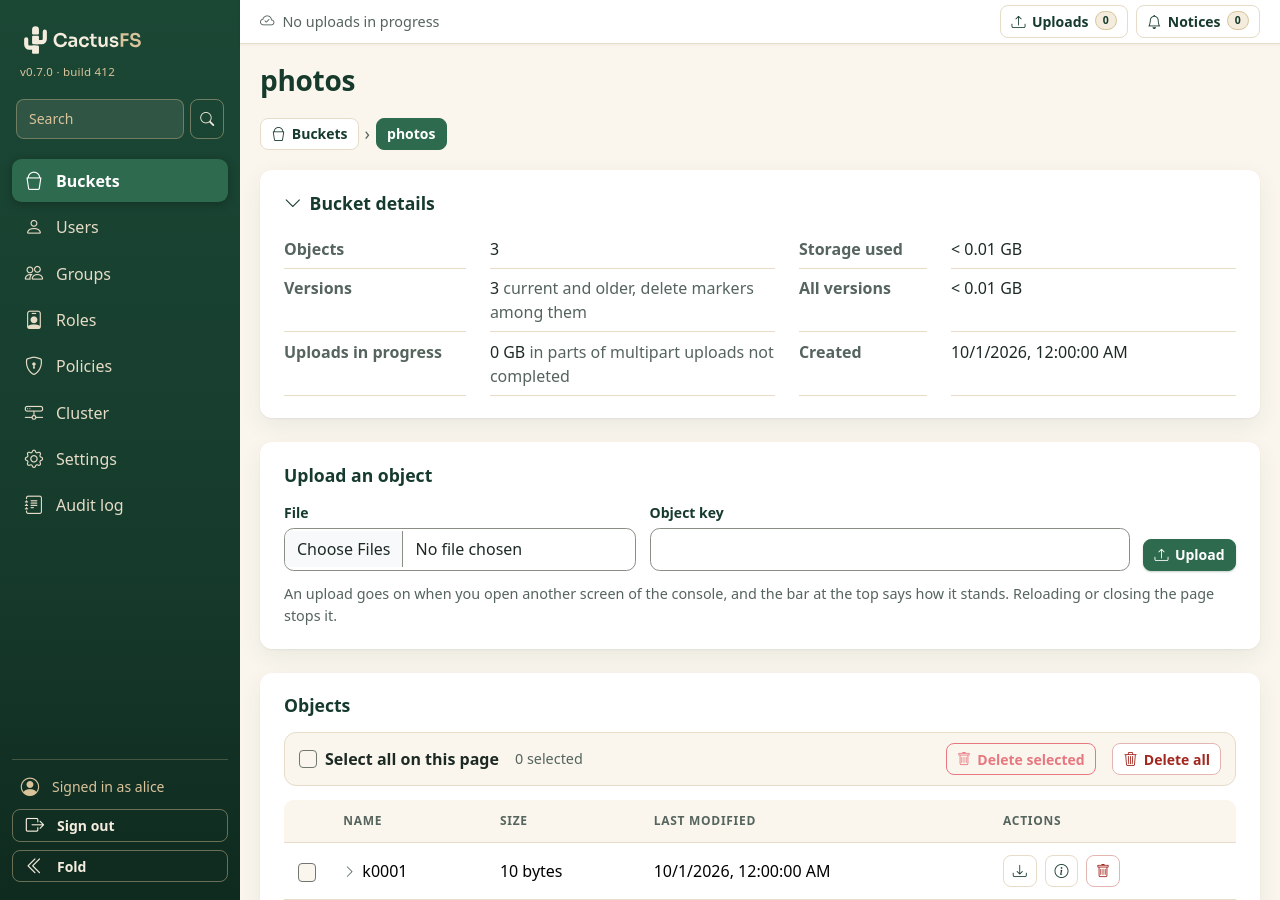
Test: "Delete all" › says how many from an exact count
This screenshot has width=1280, height=900.
Expected: the heading "photos" is shown, [260,61,355,99]
Click the button "Delete all": click(1167, 759) [1112,743,1221,775]
(page scrolled)
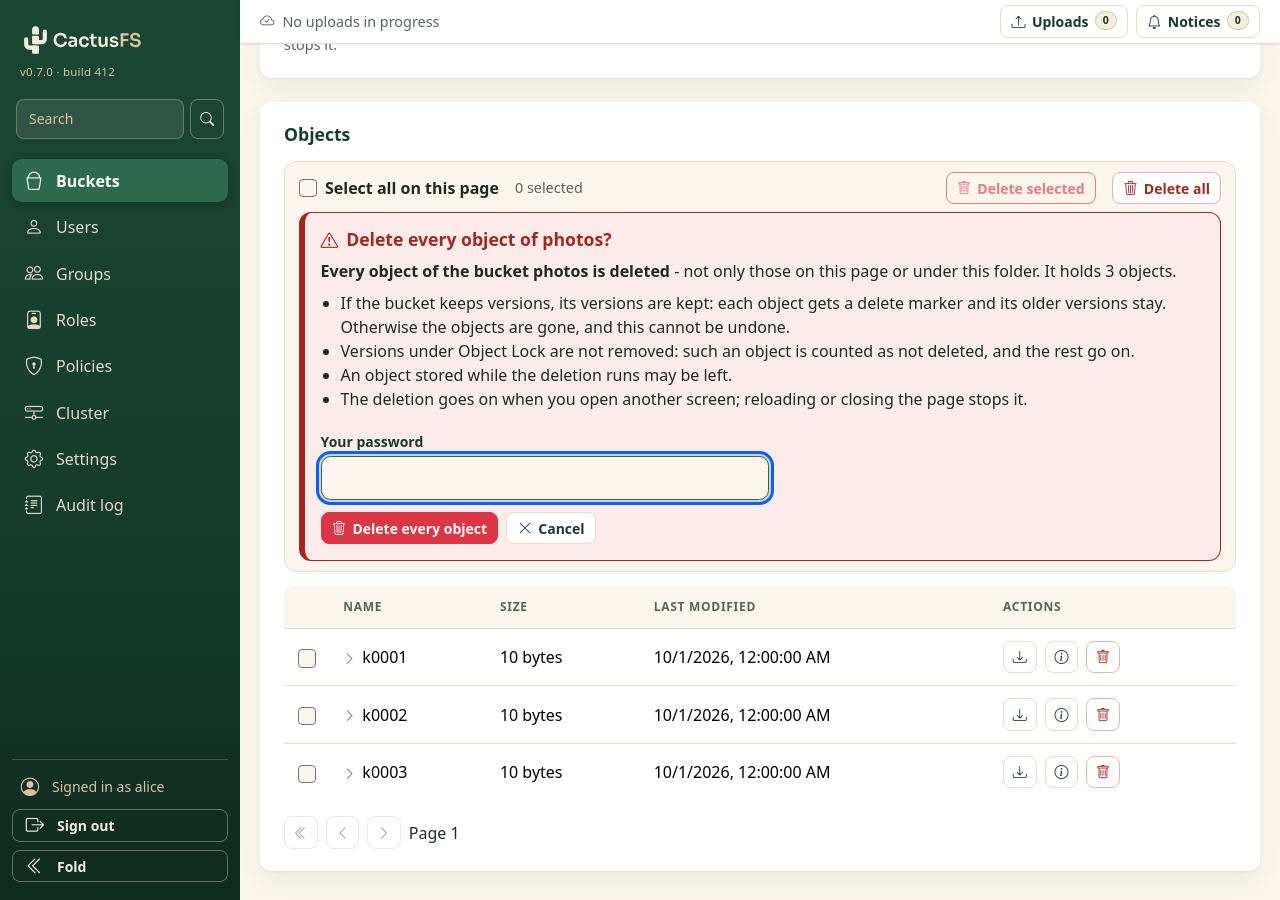
Expected: the dialog "Delete every object of " shows "It holds 3 objects.", [1044,260,1177,282]
